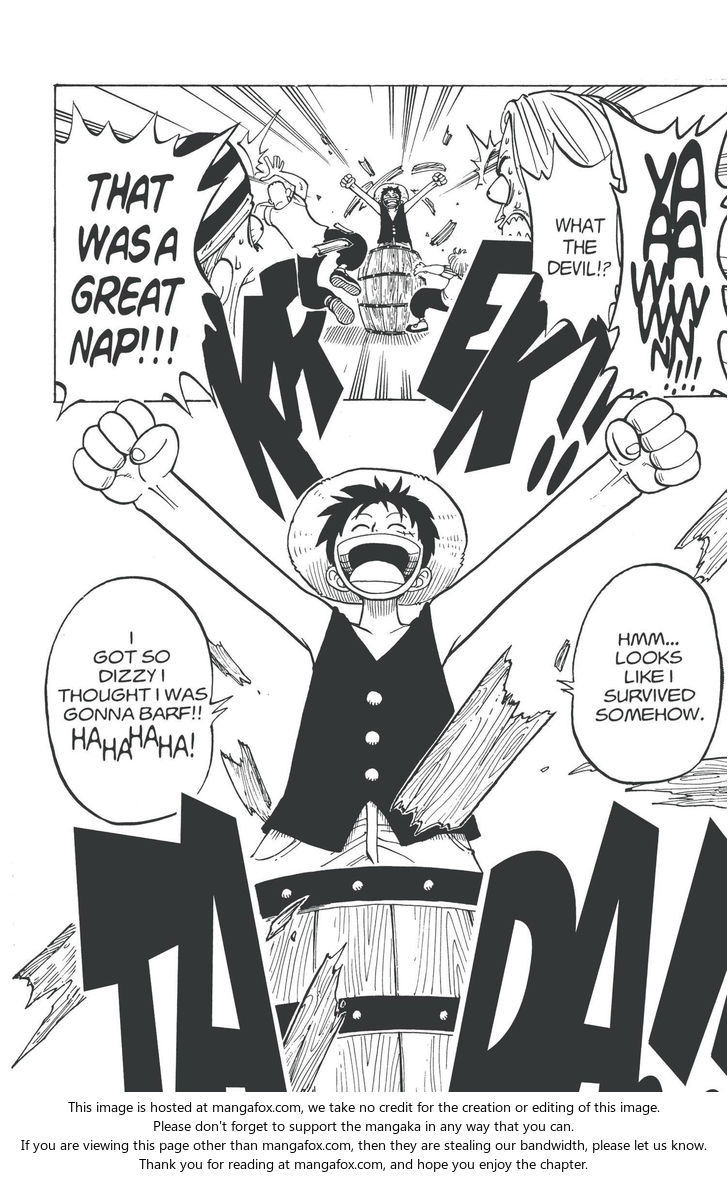bubble: (55, 102, 239, 421), (46, 578, 232, 826), (601, 101, 728, 405), (559, 563, 723, 784), (520, 135, 622, 345)
